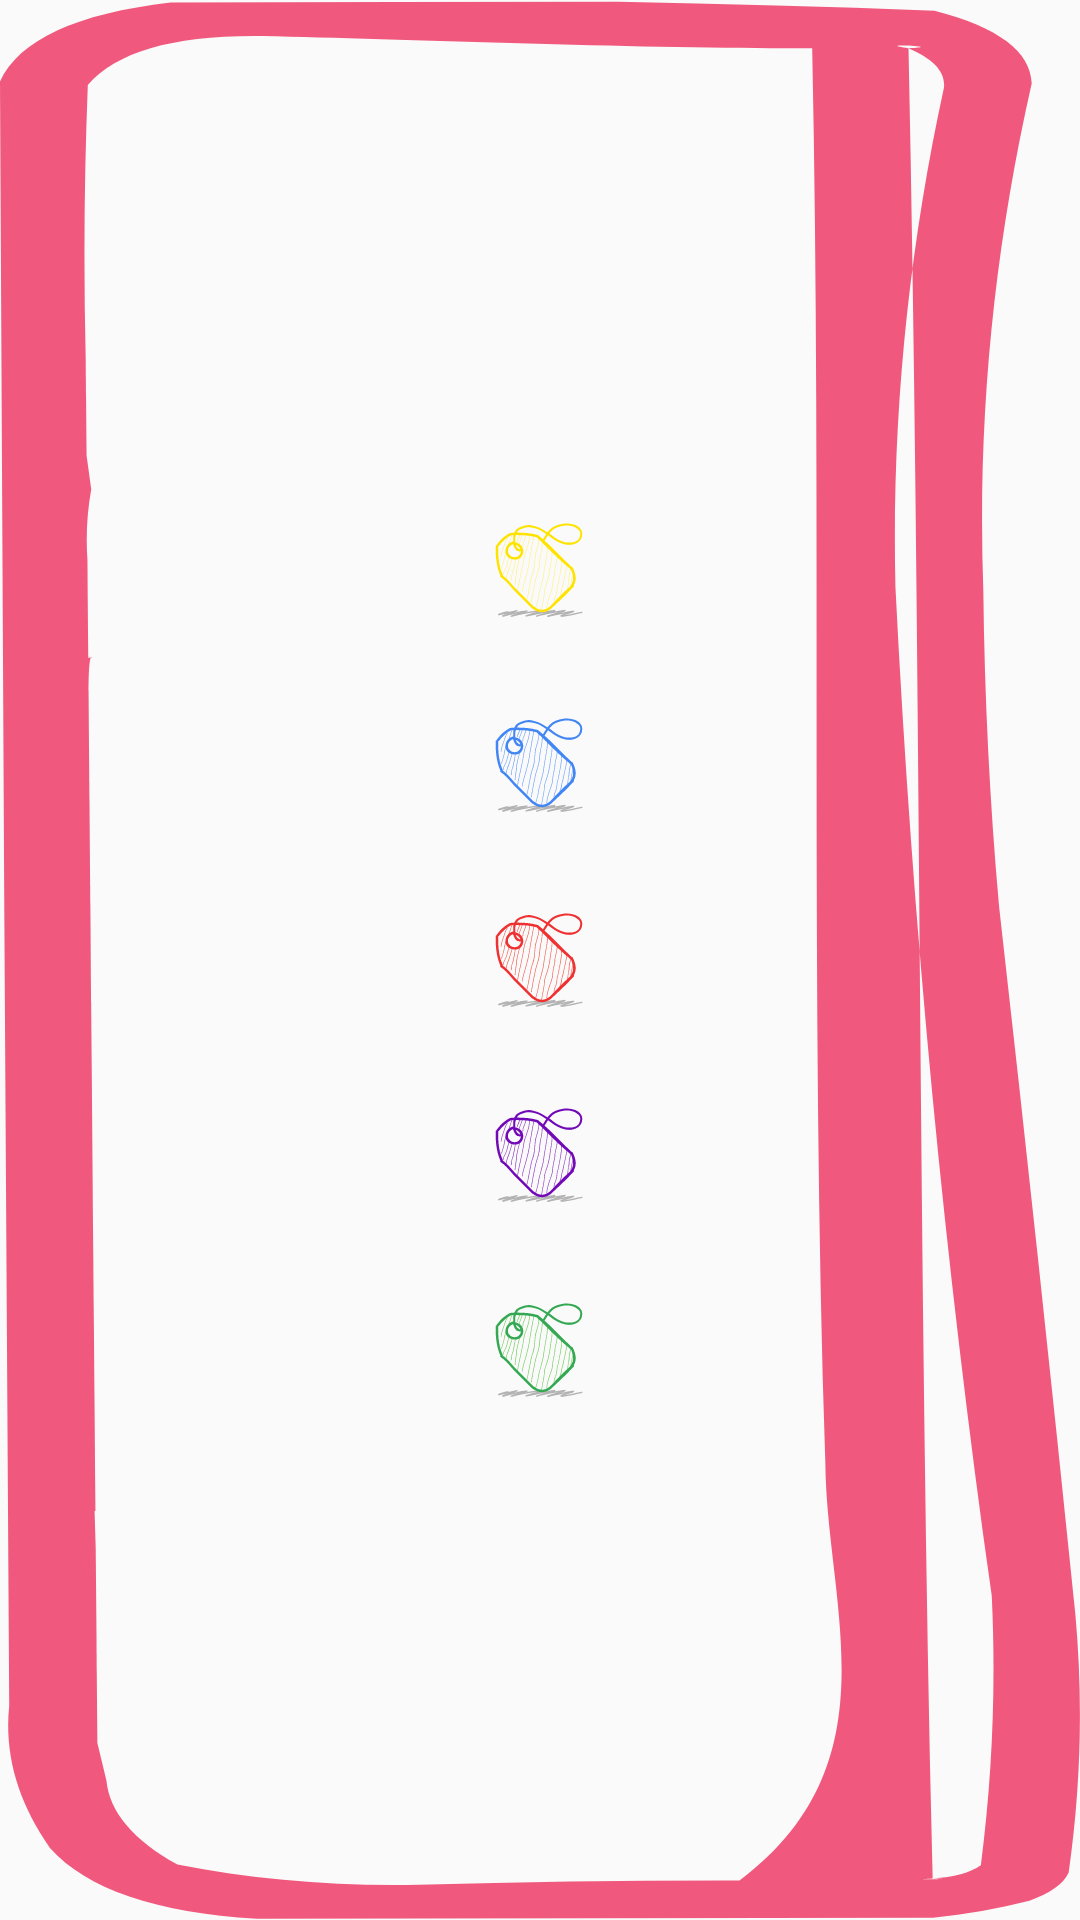

Named icons in this screenshot (1080x1920) and their centers, (x,y):
tag: (539,570), (539,765), (539,960), (539,1155), (539,1350)
